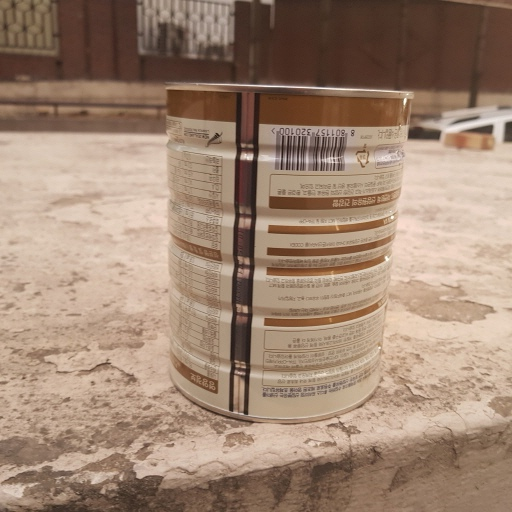Metal_1: (159, 76, 416, 427)
